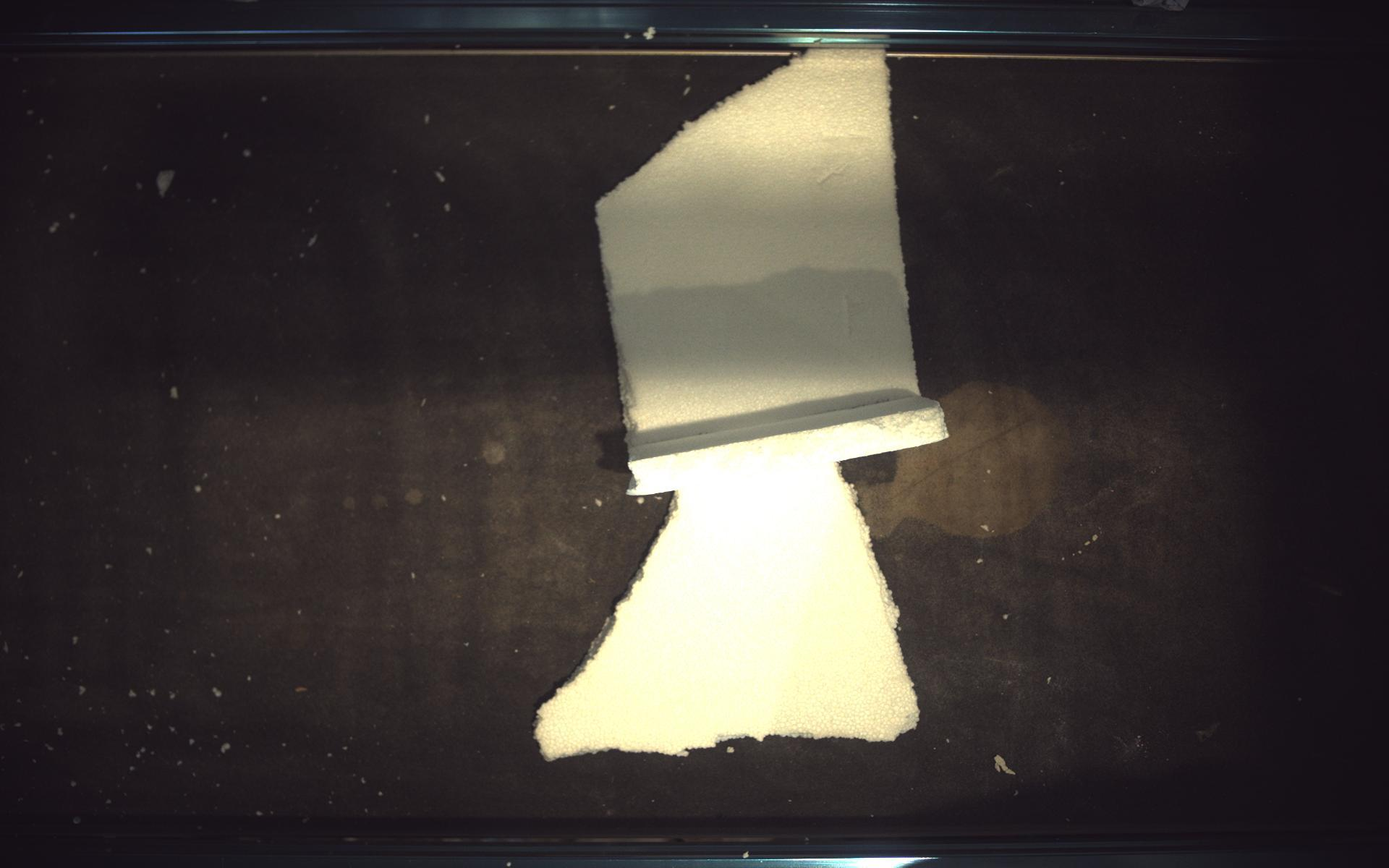foam: (598, 48, 948, 495), (536, 464, 920, 761)
